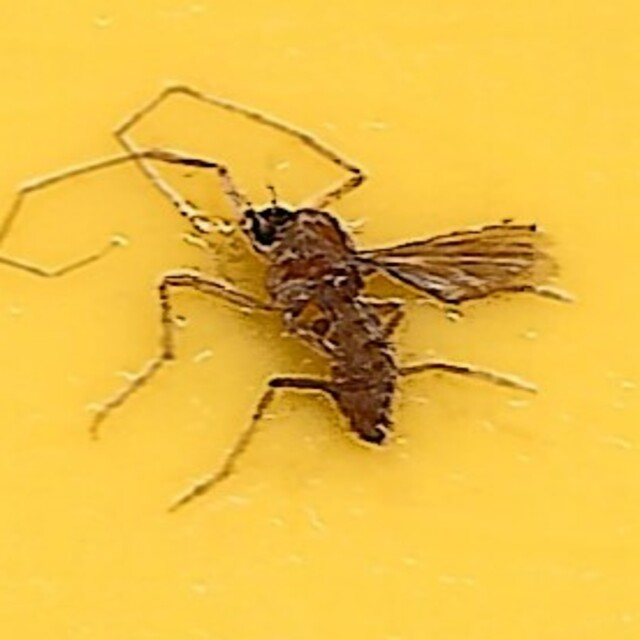Nematocera: (232, 195, 408, 445)
